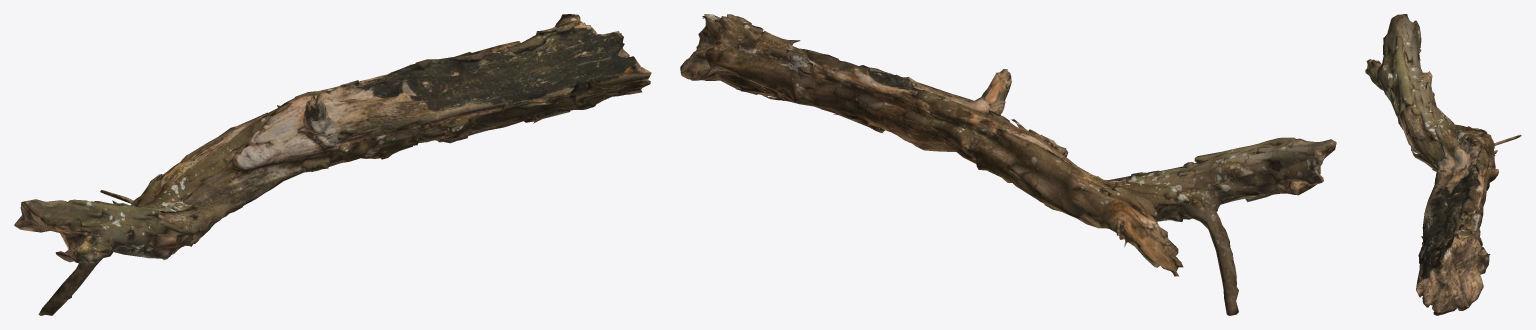
The model's file is dead_tree_trunk_02.glb.
The picture shows the model from 3 angles, left to right: view 1: azimuth 30°, elevation 25°; view 2: azimuth 150°, elevation 25°; view 3: azimuth 270°, elevation 25°; orthographic projection. The views are drawn at different scales.
Parts seen in each view (by area): view 1: dead_tree_trunk_02; view 2: dead_tree_trunk_02; view 3: dead_tree_trunk_02.
Boxes of the visible parts, x1=… form: dead_tree_trunk_02: x1=14, y1=14, x2=651, y2=315; dead_tree_trunk_02: x1=680, y1=14, x2=1336, y2=315; dead_tree_trunk_02: x1=1365, y1=14, x2=1521, y2=315.
Bounding box in the file's own units: 4.05 × 1.05 × 1.05.
1 material, 1 textured.
